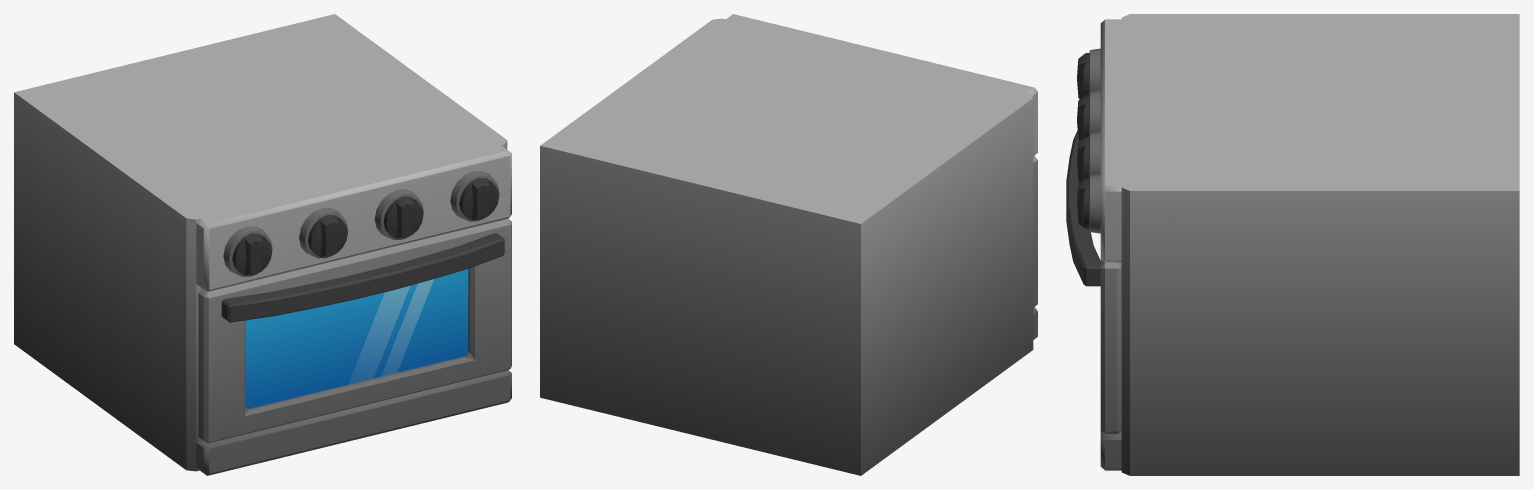
The model's file is Counter_F_Stove_01.fbx.
3 views of the same model, side by side, from view 1: azimuth 30°, elevation 25°; view 2: azimuth 150°, elevation 25°; view 3: azimuth 270°, elevation 25° (orthographic). The views are drawn at different scales.
Visible parts, largest first — view 1: Counter_F_Stove_01, Counter_F_Stove_01_Door; view 2: Counter_F_Stove_01, Counter_F_Stove_01_Door; view 3: Counter_F_Stove_01, Counter_F_Stove_01_Door.
Boxes of the visible parts, x1,y1,x2,y2 form: Counter_F_Stove_01: (14, 14, 511, 475); Counter_F_Stove_01_Door: (198, 218, 511, 443); Counter_F_Stove_01: (540, 14, 1037, 475); Counter_F_Stove_01_Door: (1033, 156, 1037, 307); Counter_F_Stove_01: (1077, 14, 1519, 475); Counter_F_Stove_01_Door: (1066, 130, 1121, 433).
Bounding box in the file's own units: 100 × 75 × 108.
